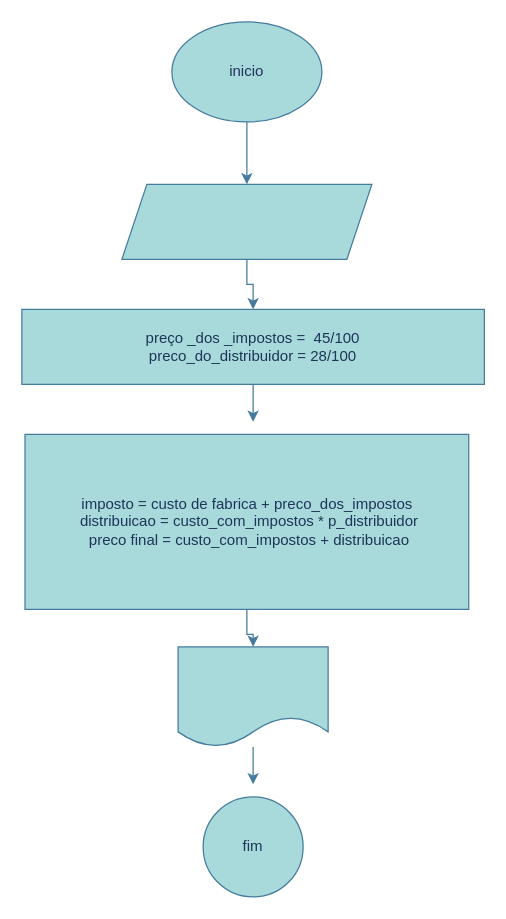
Some shapes in this 506 by 919 pixel diagram are drawn without their labels. The centre of each missing label's shape, as x and y in pixels:
custo do consumidor: (x=252, y=696)
Digite o custo de fabrica: (x=246, y=221)
